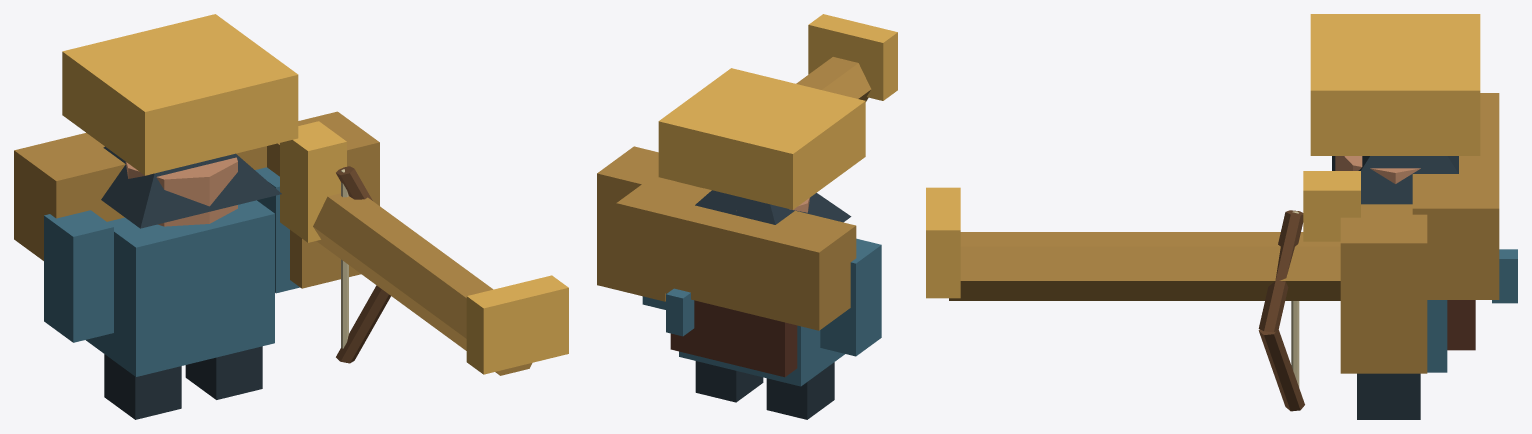
Rendered from gunner.obj.
3 renders of one model, left to right at view 1: azimuth 30°, elevation 25°; view 2: azimuth 150°, elevation 25°; view 3: azimuth 270°, elevation 25°, orthographic. The views are drawn at different scales.
Parts seen in each view (by area): view 1: ranged; view 2: ranged; view 3: ranged.
Part boxes in pixels (box(x1,y1,x2,y2)): ranged: box(14, 14, 568, 419); ranged: box(597, 14, 897, 419); ranged: box(926, 14, 1517, 419).
Bounding box in the file's own units: 1.21 × 1.29 × 2.06.
